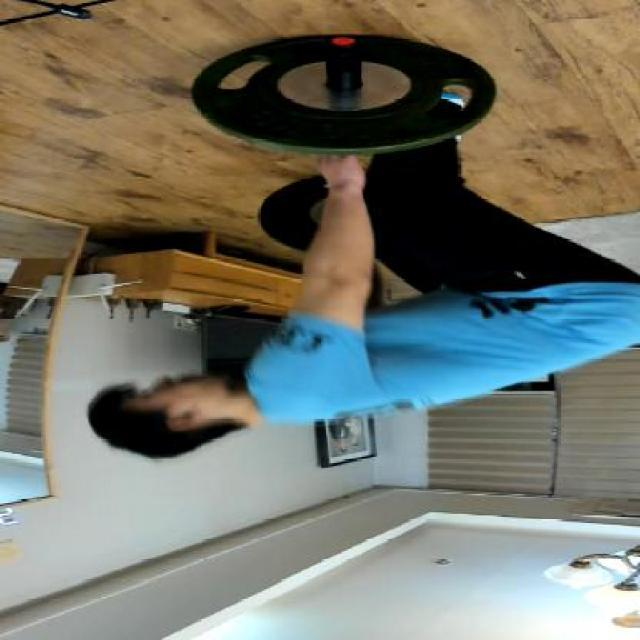Barbell: (322, 31, 366, 58)
